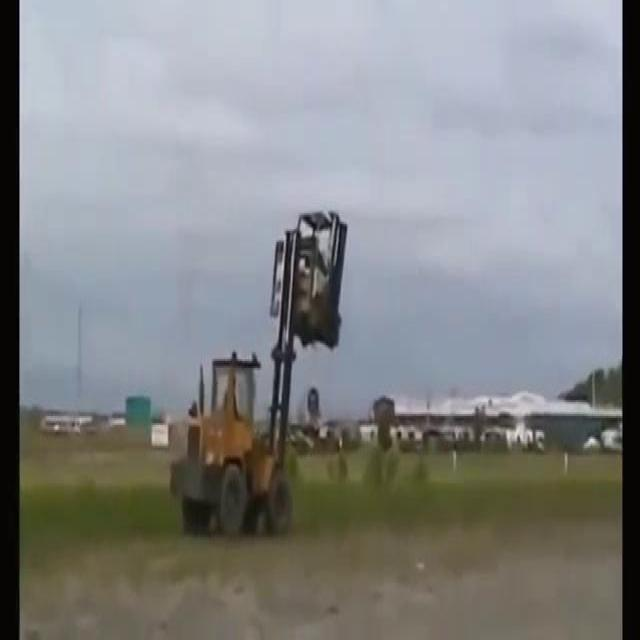forklift: (166, 204, 352, 544)
person: (222, 372, 248, 438)
